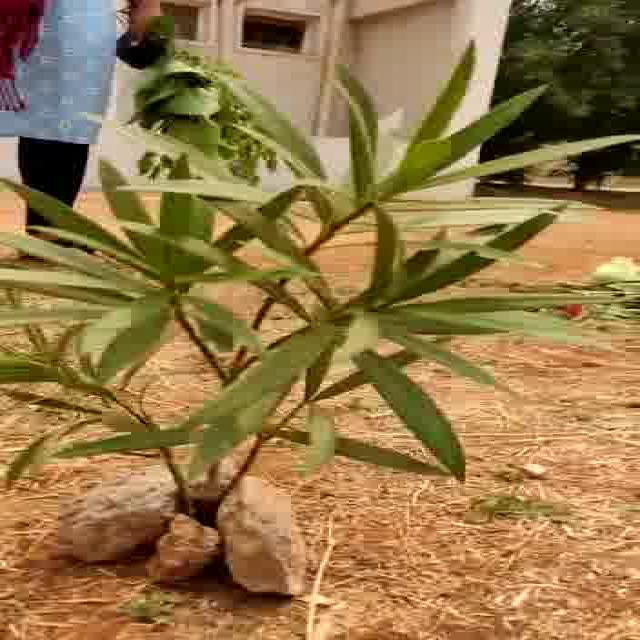OLEANDER: (19, 47, 634, 483)
